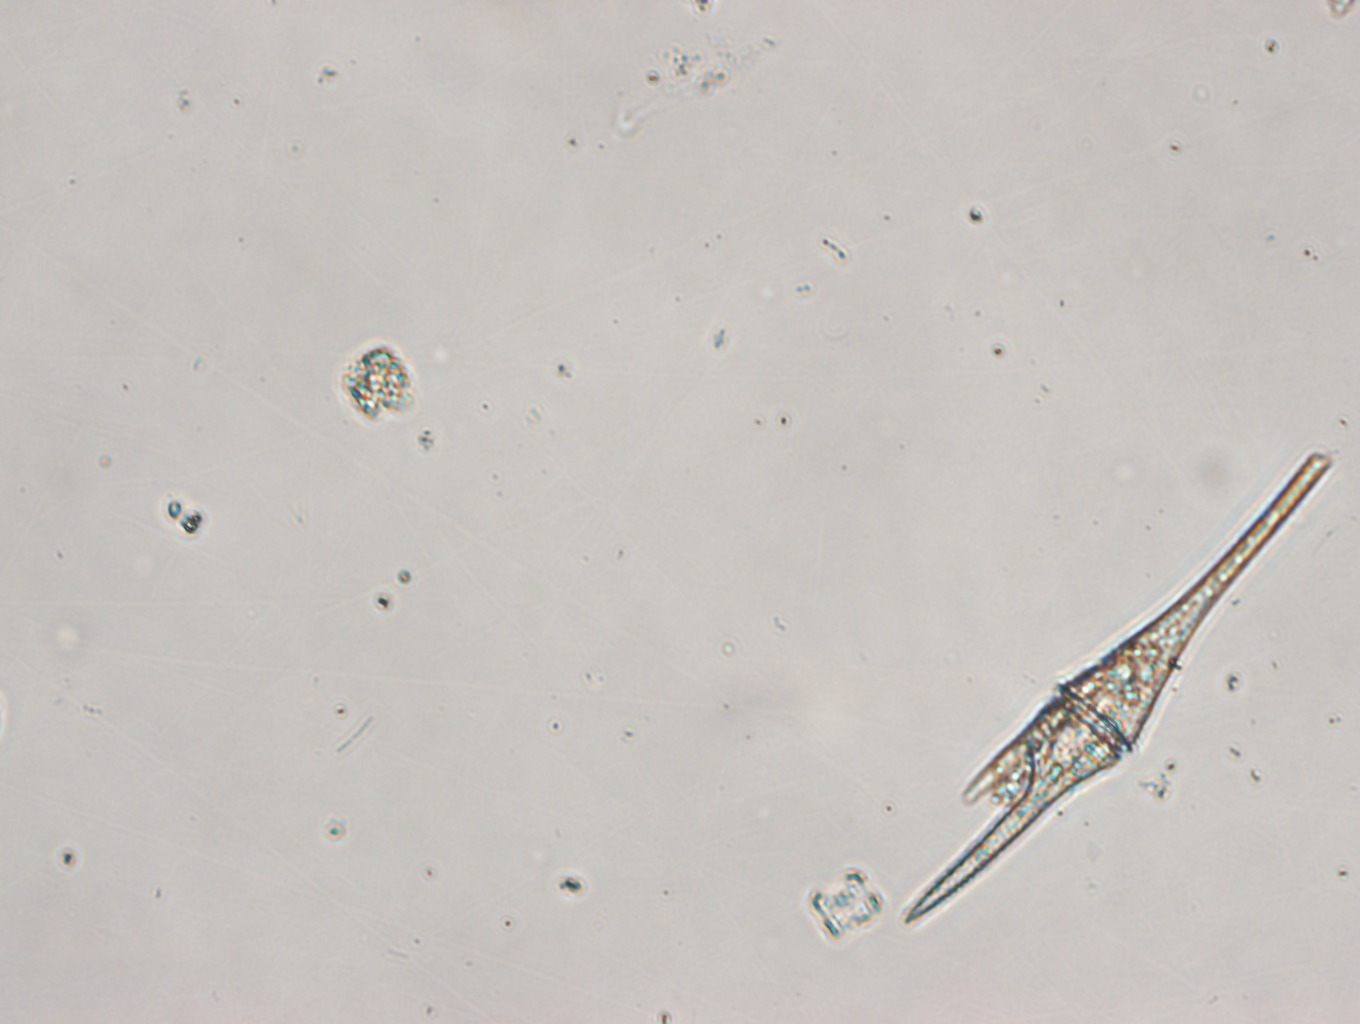ceratium furca: (903, 444, 1335, 926)
